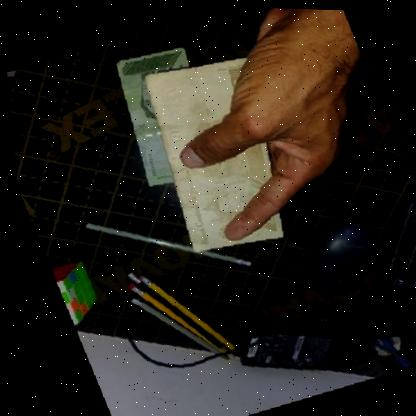fifty-front-vef: (105, 43, 222, 187)
five-back-vef: (133, 50, 301, 257)
